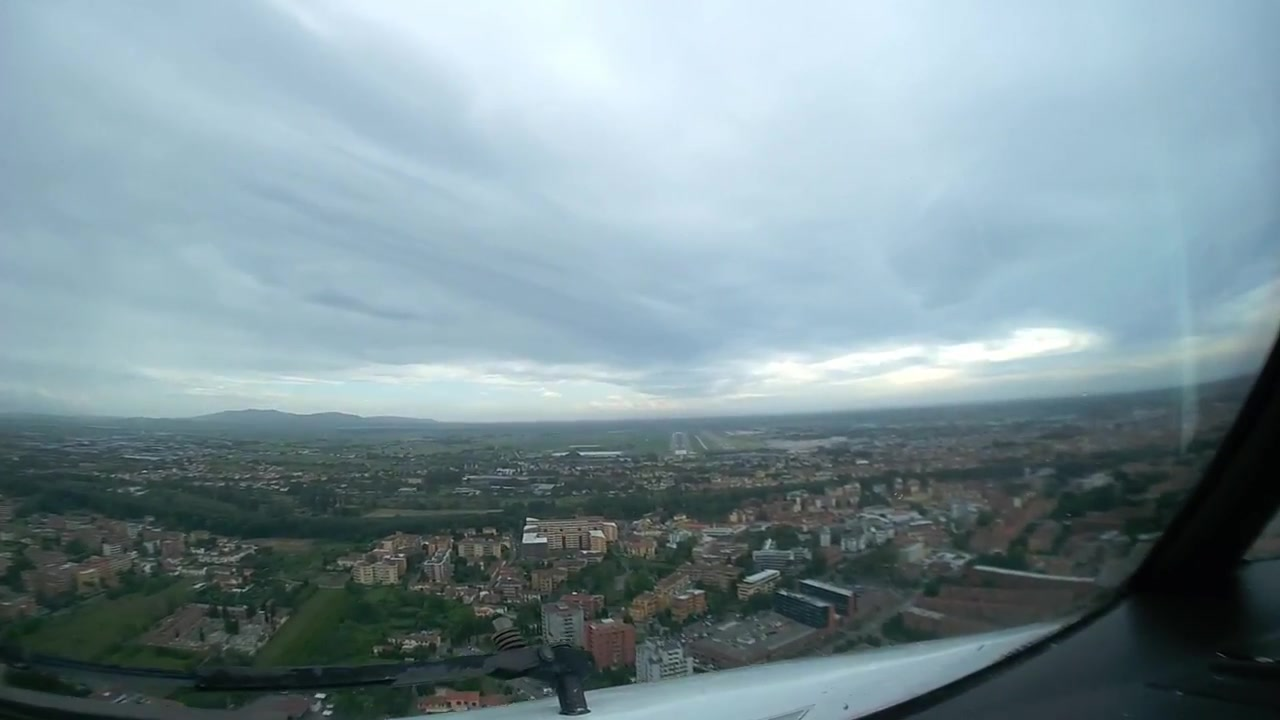runway: (671, 432, 689, 457)
